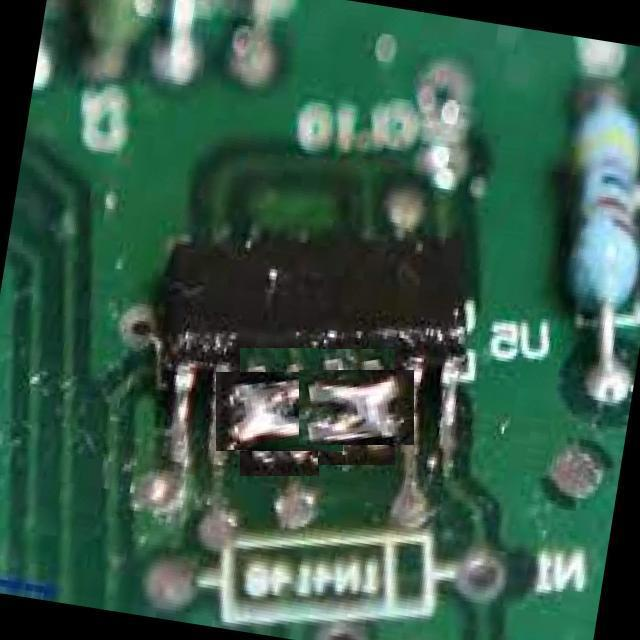damged: (216, 373, 343, 451), (300, 370, 414, 445)
